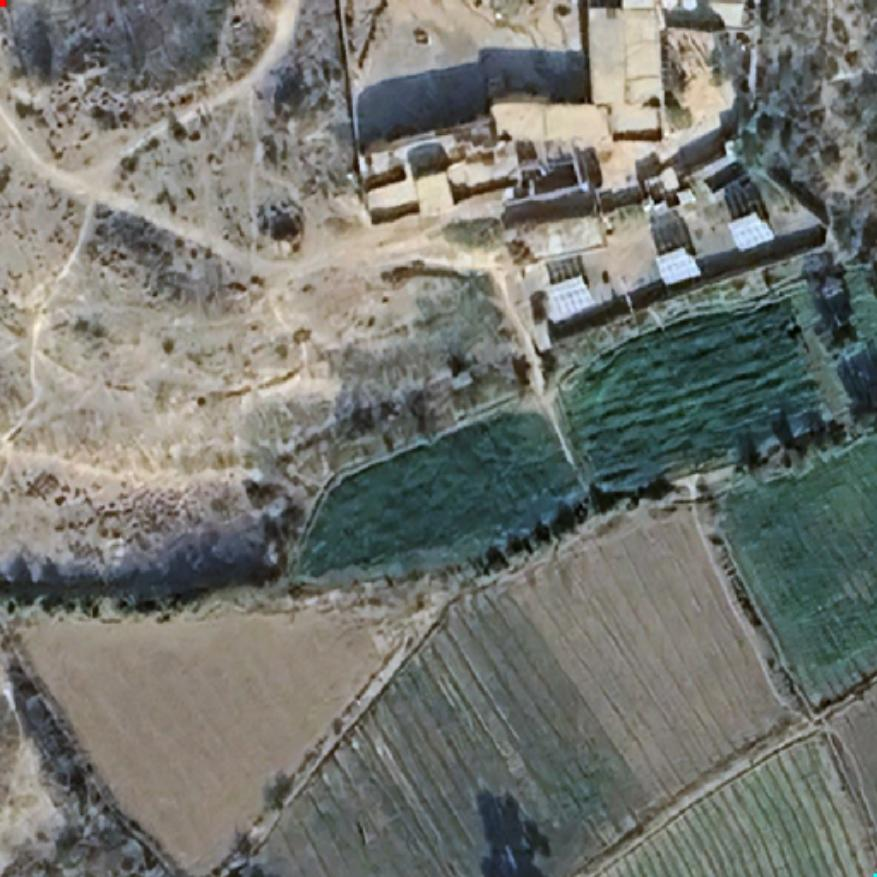Solarpanel: (545, 273, 598, 326), (725, 207, 776, 255), (652, 243, 704, 287)
